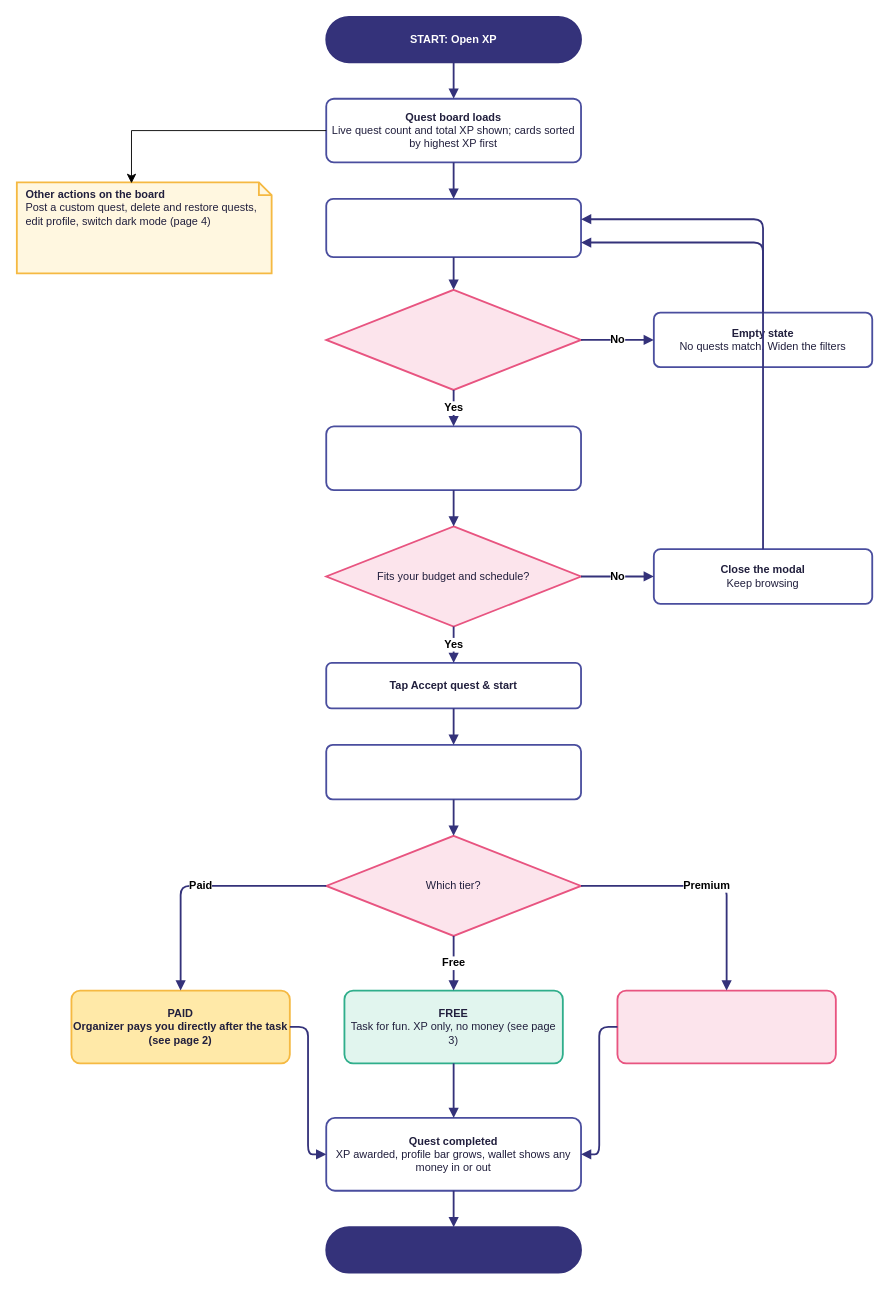
Some shapes in this 888 by 1289 pixel diagram are drawn without their labels. Each missing label, with the centre of its shape:
"Any quests match?" goes at pixel 453 339.
"END: Pick the next quest" goes at pixel 453 1249.
"Filter the board Tier (All / Paid / Free / Premium), location, hours free" goes at pixel 453 227.
"Open a quest card Details modal: organizer, tier, hours, XP, money" goes at pixel 453 457.
"PREMIUM You pay the entry fee to the organizer first (see page 3)" goes at pixel 726 1026.
"Toast confirms Quest joins Active side quests" goes at pixel 453 771.
